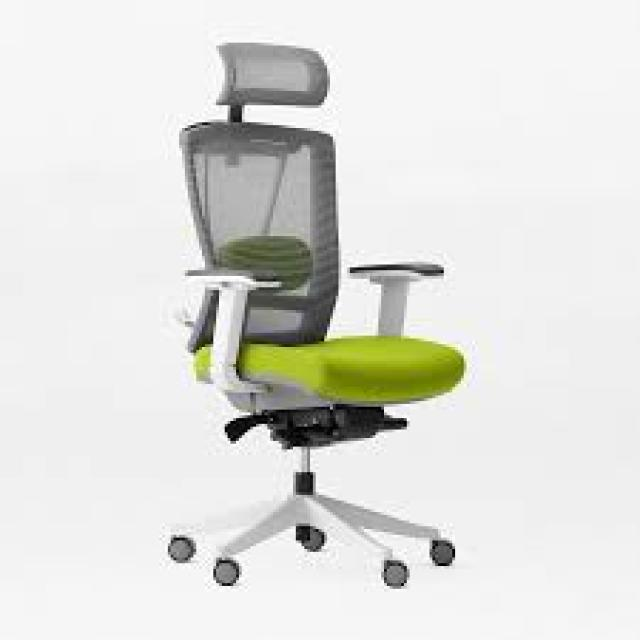chair: (122, 31, 475, 640)
